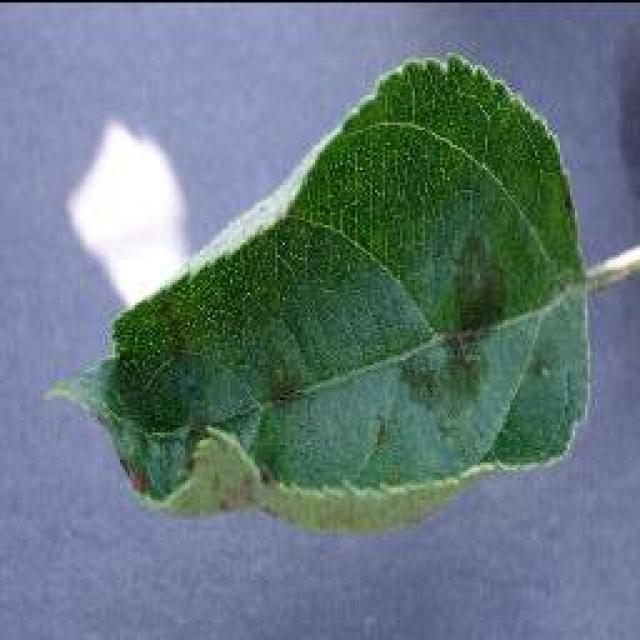apple scab disease: (45, 50, 637, 535)
